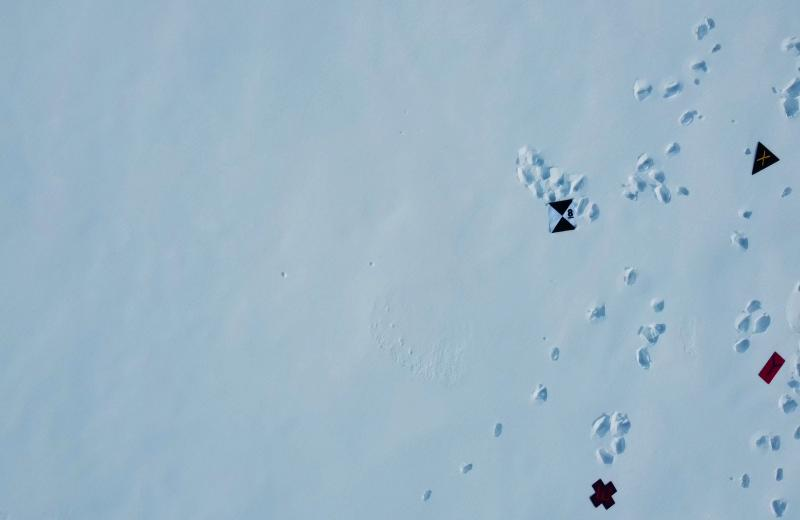Cross: (616, 462, 644, 496)
Rectangle: (784, 342, 800, 374)
Triangle: (752, 141, 781, 178)
